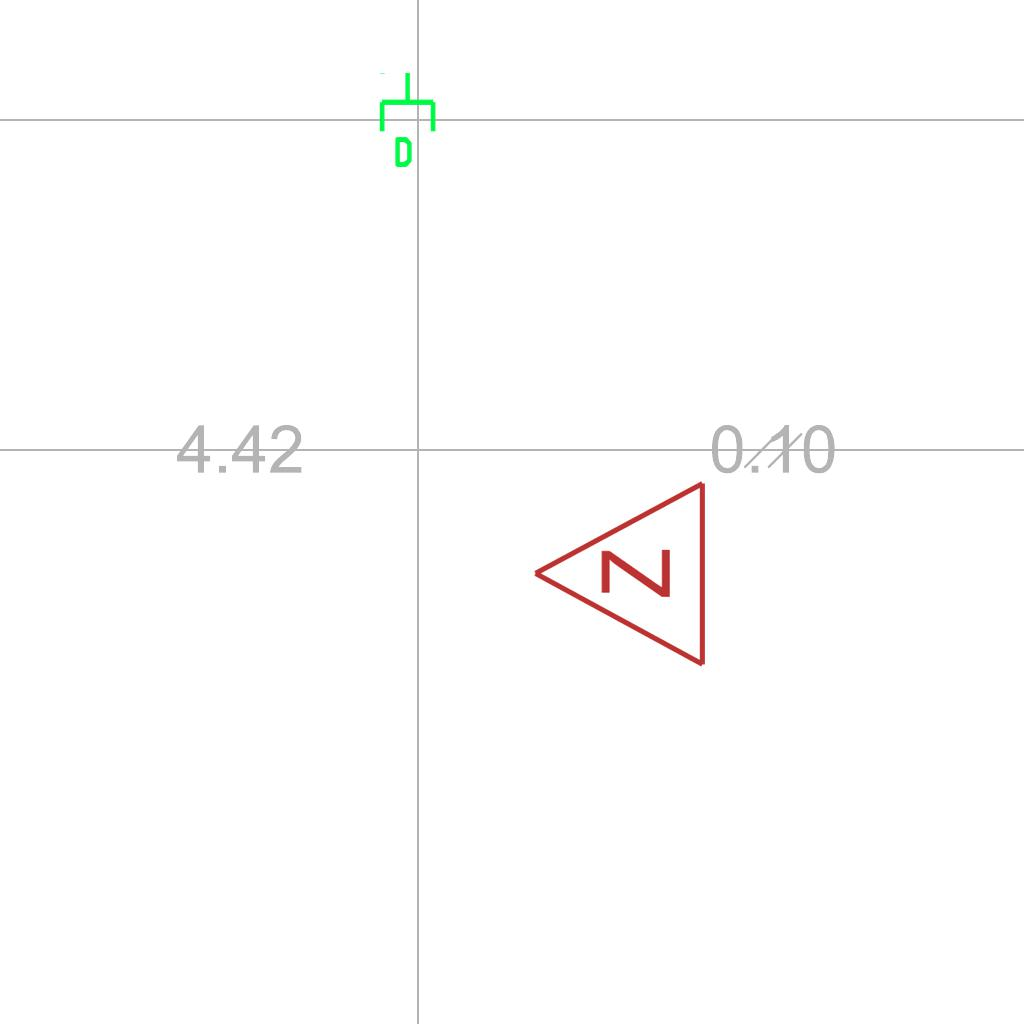Datenanschluss_einfach: (375, 70, 444, 170)
Zimmersignalleuchte: (520, 478, 720, 674)
